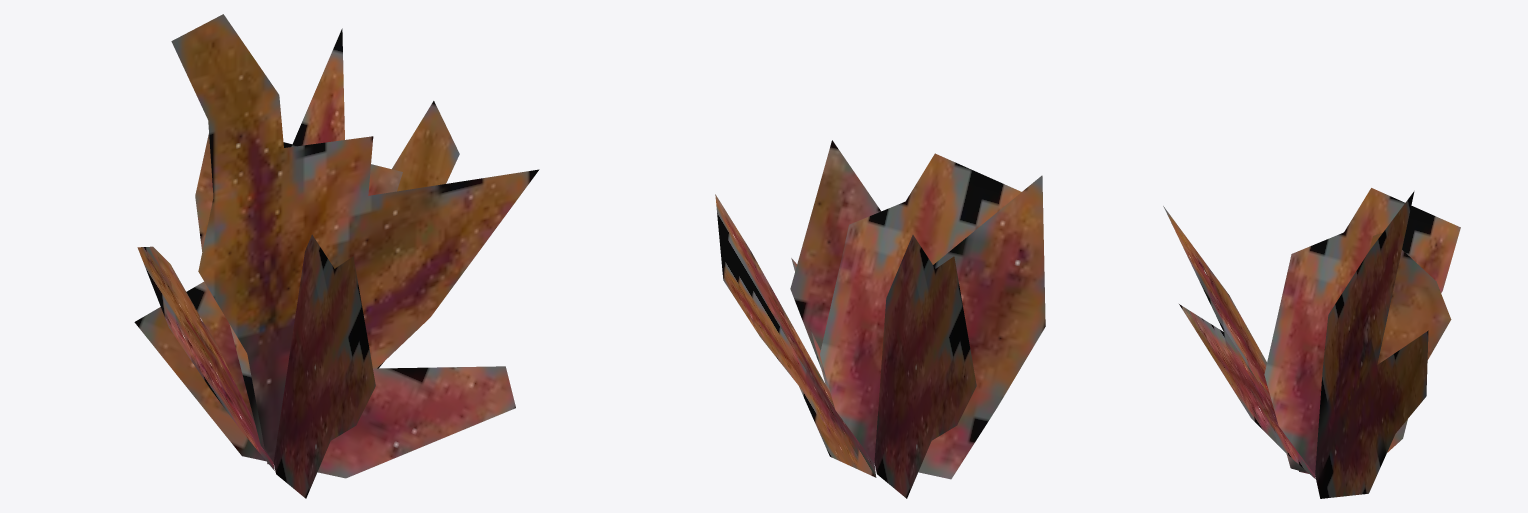
Rendered from Seaweed_E2-transformed.glb.
3 renders of one model, left to right at view 1: azimuth 30°, elevation 25°; view 2: azimuth 150°, elevation 25°; view 3: azimuth 270°, elevation 25°, orthographic. The views are drawn at different scales.
Parts seen in each view (by area): view 1: Seaweed_E2; view 2: Seaweed_E2; view 3: Seaweed_E2.
Boxes of the visible parts, x1=… form: Seaweed_E2: x1=134, y1=14, x2=539, y2=498; Seaweed_E2: x1=715, y1=140, x2=1045, y2=498; Seaweed_E2: x1=1163, y1=188, x2=1460, y2=498.
Bounding box in the file's own units: 0.7795 × 0.7919 × 0.7148.
Materials: 1 (1 with a texture image).
